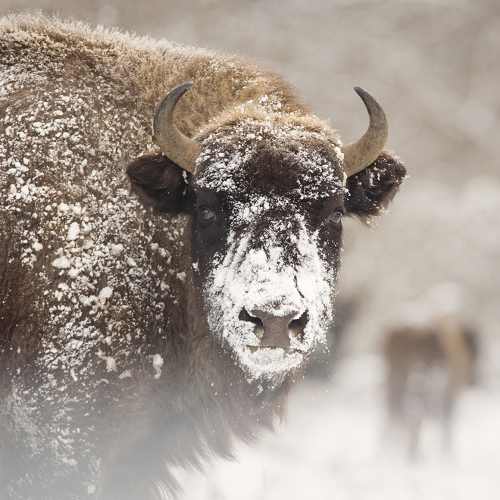zubr: (1, 10, 475, 498)
